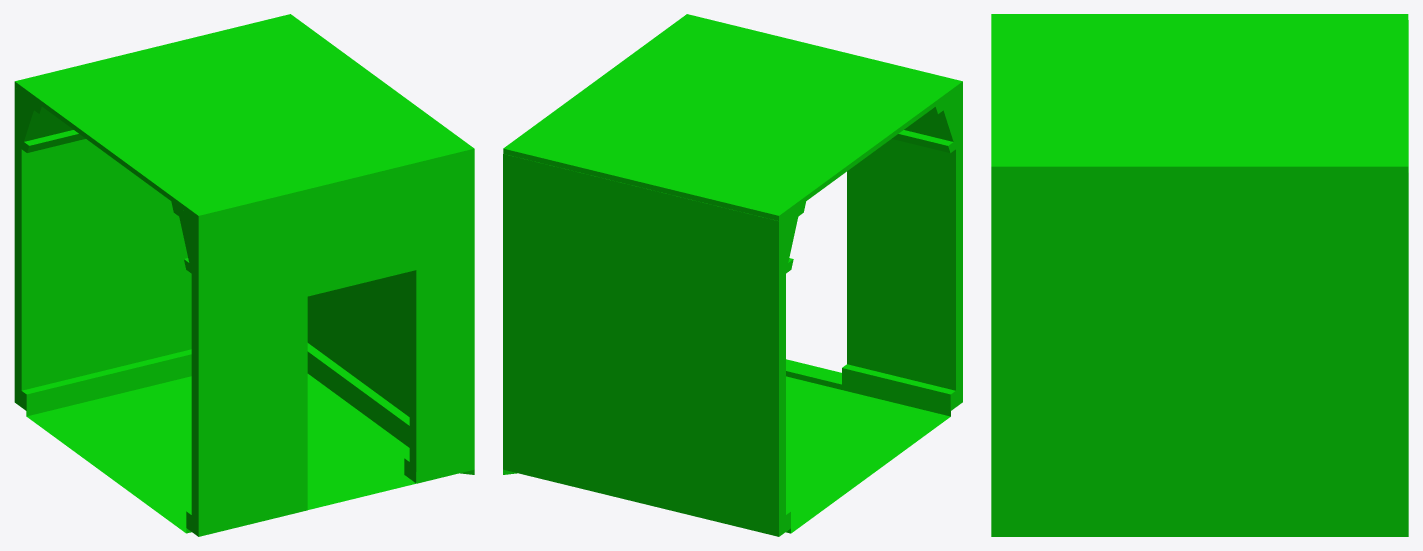
File: BasementHallEntry.fbx
The picture shows the model from 3 angles, left to right: view 1: azimuth 30°, elevation 25°; view 2: azimuth 150°, elevation 25°; view 3: azimuth 270°, elevation 25°; orthographic projection. The views are drawn at different scales.
Parts seen in each view (by area): view 1: BasementHallEntry; view 2: BasementHallEntry; view 3: BasementHallEntry.
Part boxes in pixels (box(x1,y1,x2,y2)): BasementHallEntry: box(14, 14, 474, 536); BasementHallEntry: box(503, 14, 962, 536); BasementHallEntry: box(991, 14, 1408, 536).
Bounding box in the file's own units: 319 × 360 × 368.
